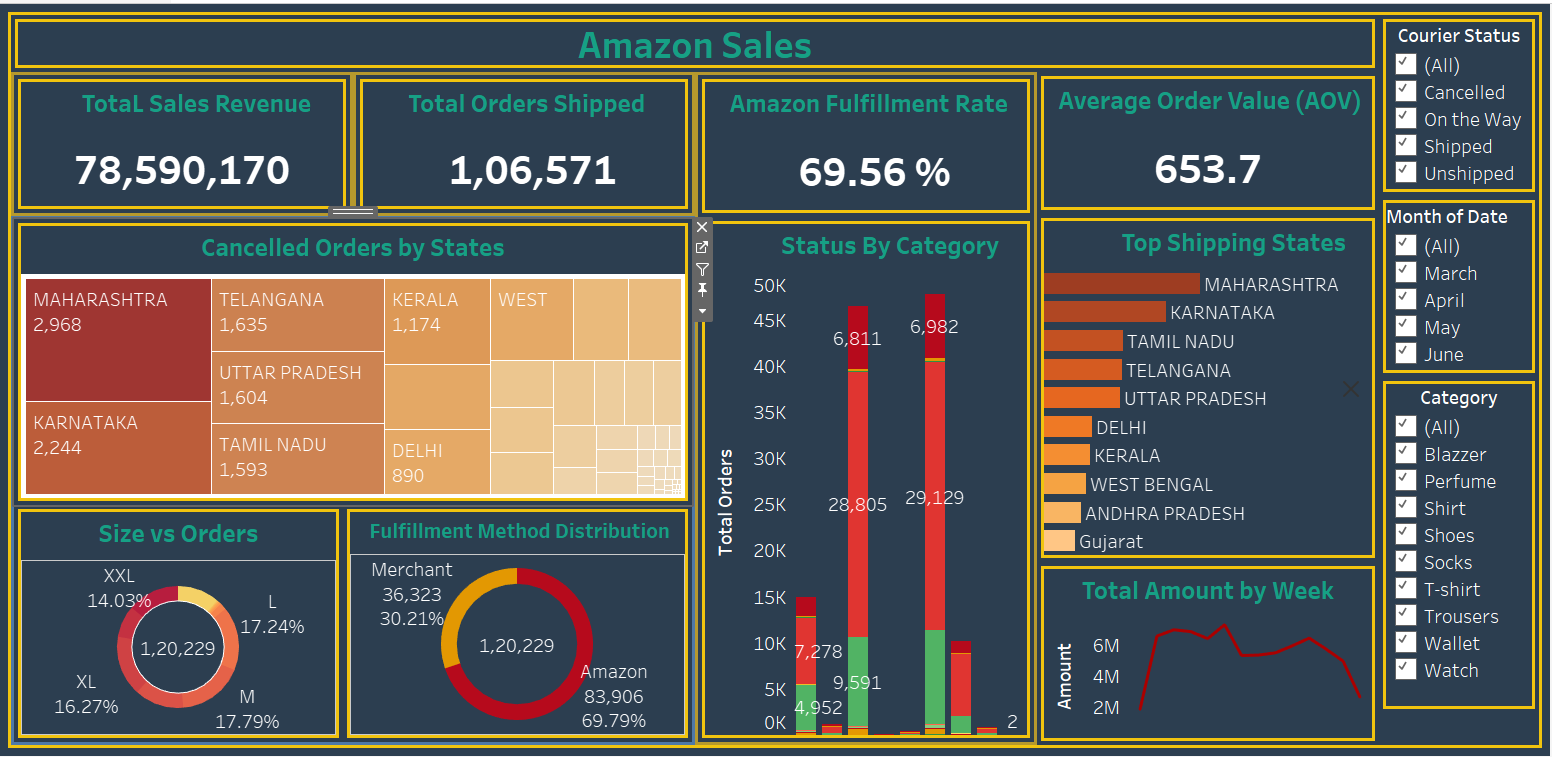

This screenshot's page, from the dashboard's own definition file:
{"tool":"tableau","page":{"name":"Dashboard 1","canvas":[1550,752],"ordinal":0},"visuals":[{"type":"title","box":[11,11,1528,57]},{"type":"worksheet","title":"Average Order Value","mark":"Automatic","box":[1156.9,68,382.1,142]},{"type":"worksheet","title":"Total sales Revenue","mark":"Automatic","box":[14,71,375.9,137.7]},{"type":"worksheet","title":"Total orders","mark":"Automatic","box":[395.9,71,376,137.7]},{"type":"worksheet","title":"Amazon Fulfillment Rate","mark":"Automatic","box":[778,71,376,142]},{"type":"worksheet","title":"Top Shipping States","mark":"Automatic","rows":["ship-state"],"cols":["Calculation_242631473845780481"],"box":[1156.9,210,382.1,348]},{"type":"worksheet","title":"Status By Category","mark":"Automatic","rows":["Calculation_242631473845780481"],"cols":["Category"],"box":[778,213,376,525]},{"type":"worksheet","title":"Cancelled Orders by States","mark":"Automatic","box":[14,214.7,758,286]},{"type":"dashboard-object","box":[1339,373,24,24]},{"type":"worksheet","title":"Size vs Orders","mark":"Pie","rows":["Calculation_1271141039003271171","Calculation_1271141039003271171"],"box":[14,500.7,329,237.3]},{"type":"worksheet","title":"Fulfillment Method Distribution","mark":"Pie","rows":["Calculation_1271141039003271171","Calculation_1271141039003271171"],"box":[343,500.7,428.9,237.3]},{"type":"worksheet","title":"Total Amount by Week","mark":"Automatic","rows":["Amount"],"cols":["Date"],"box":[1156.9,558,382.1,183]}]}

Visuals, with their boxes in screenshot pixels (x1, y1, x2, y2), scaled from the page's 1550x752 canvas onto the 1552x757 screenshot:
title: 11, 11, 1541, 68
"Average Order Value" worksheet: 1158, 68, 1541, 211
"Total sales Revenue" worksheet: 14, 71, 390, 210
"Total orders" worksheet: 396, 71, 773, 210
"Amazon Fulfillment Rate" worksheet: 779, 71, 1155, 214
"Top Shipping States" worksheet: 1158, 211, 1541, 562
"Status By Category" worksheet: 779, 214, 1155, 743
"Cancelled Orders by States" worksheet: 14, 216, 773, 504
dashboard-object: 1341, 375, 1365, 400
"Size vs Orders" worksheet (Pie marks): 14, 504, 343, 743
"Fulfillment Method Distribution" worksheet (Pie marks): 343, 504, 773, 743
"Total Amount by Week" worksheet: 1158, 562, 1541, 746
